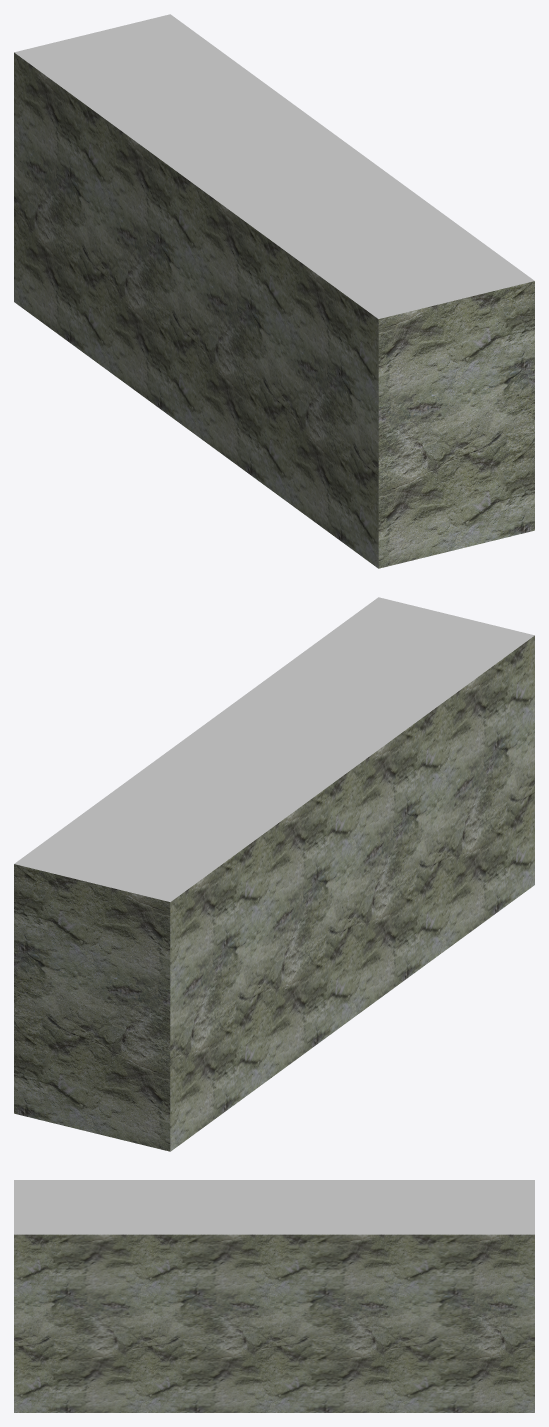
Rendered from Wall.fbx.
3 renders of one model, top to bottom at view 1: azimuth 30°, elevation 25°; view 2: azimuth 150°, elevation 25°; view 3: azimuth 270°, elevation 25°, orthographic. The views are drawn at different scales.
Parts seen in each view (by area): view 1: Plane; view 2: Plane; view 3: Plane.
Part boxes in pixels (x1=…): Plane: x1=14, y1=14, x2=534, y2=568; Plane: x1=14, y1=597, x2=534, y2=1151; Plane: x1=14, y1=1180, x2=534, y2=1412.
Size of the model in its own units: 394 by 600 by 1588.
